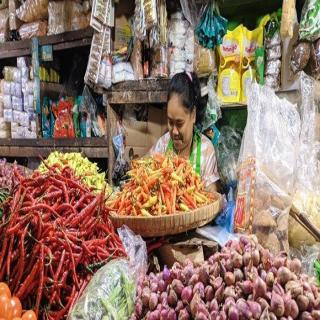Bawang Merah: (132, 234, 320, 319)
Cabai Merah: (1, 159, 129, 320), (110, 153, 216, 218)
